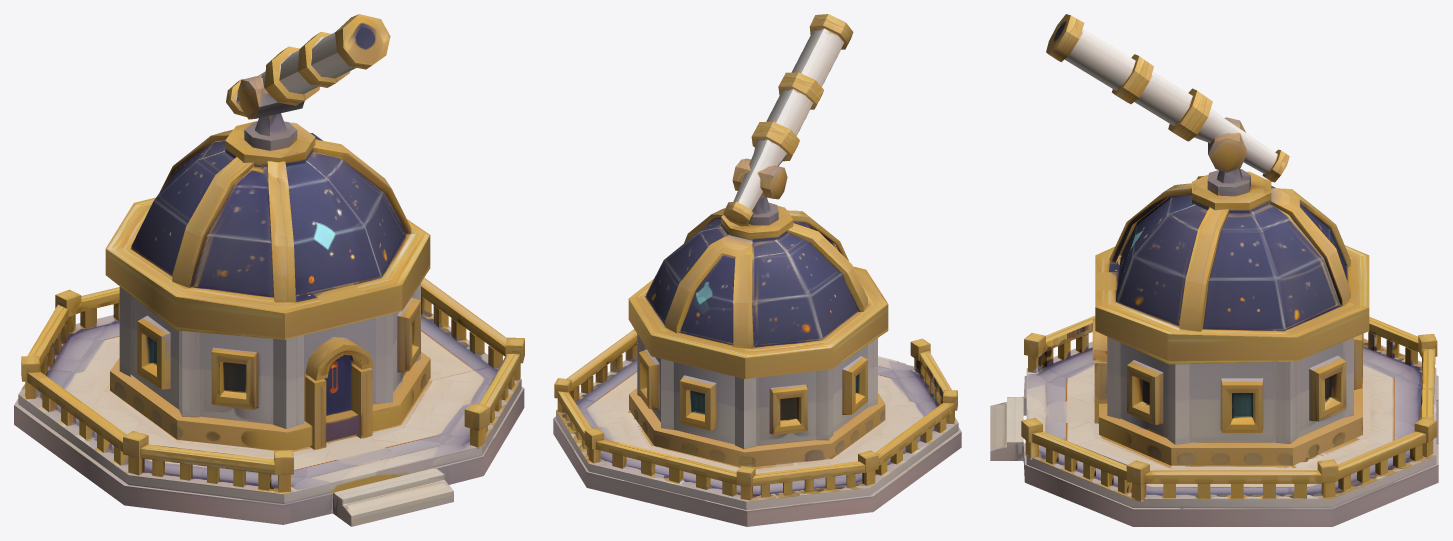
File: Model_building_tianwen.fbx
The picture shows the model from 3 angles, left to right: view 1: azimuth 30°, elevation 25°; view 2: azimuth 150°, elevation 25°; view 3: azimuth 270°, elevation 25°; orthographic projection. The views are drawn at different scales.
Visible parts, largest first — view 1: 天文台; view 2: 天文台; view 3: 天文台.
Part boxes in pixels (bbox=[...]): 天文台: bbox=[14, 14, 524, 526]; 天文台: bbox=[553, 14, 961, 526]; 天文台: bbox=[990, 14, 1438, 526].
Bounding box in the file's own units: 5.33 × 5.89 × 5.65.
